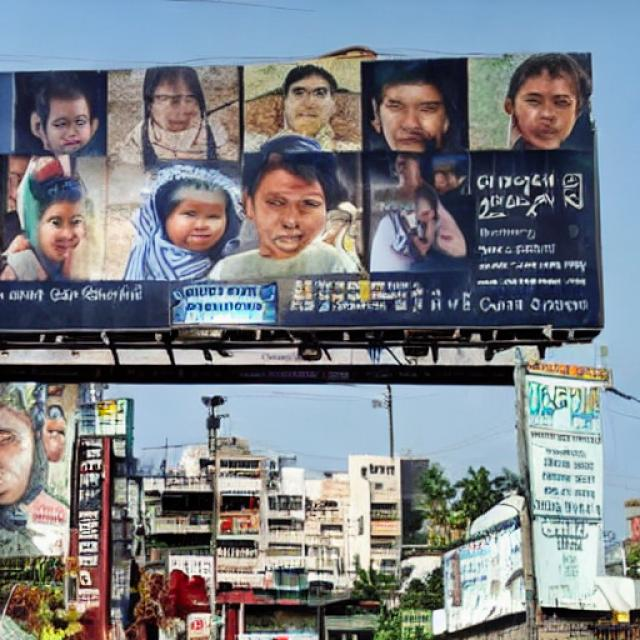Billboard: (0, 42, 606, 364)
